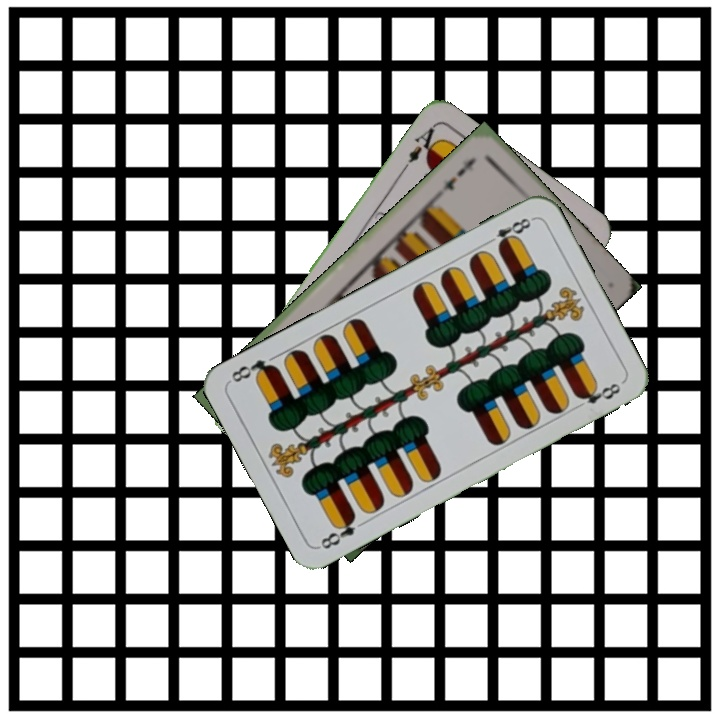E7: (435, 152, 478, 195)
E8: (481, 213, 536, 252), (315, 510, 359, 552)
EA: (399, 122, 443, 173)
